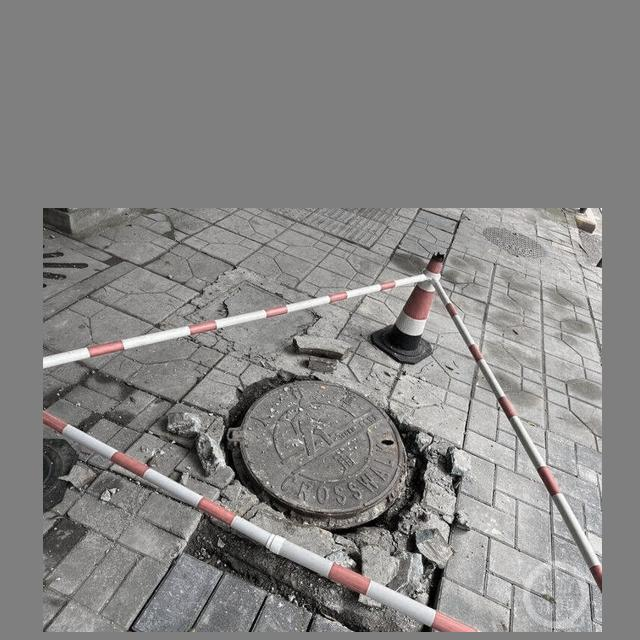circle: (181, 354, 453, 617)
